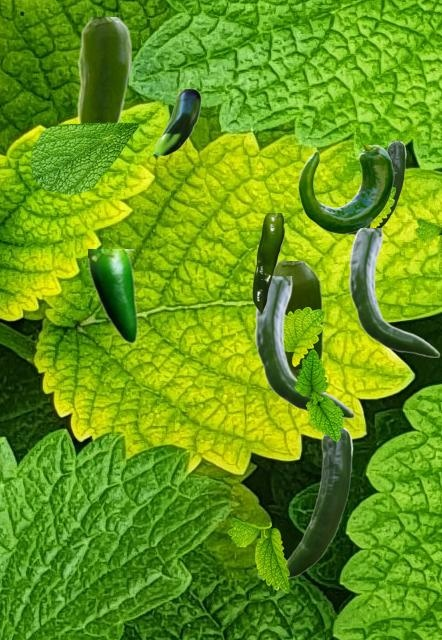green_chili: (257, 427, 352, 578), (255, 276, 354, 417), (349, 228, 439, 356), (298, 145, 393, 232), (74, 17, 130, 122), (274, 261, 322, 377), (347, 141, 405, 235), (88, 249, 137, 343), (252, 213, 283, 313), (153, 89, 199, 155)
